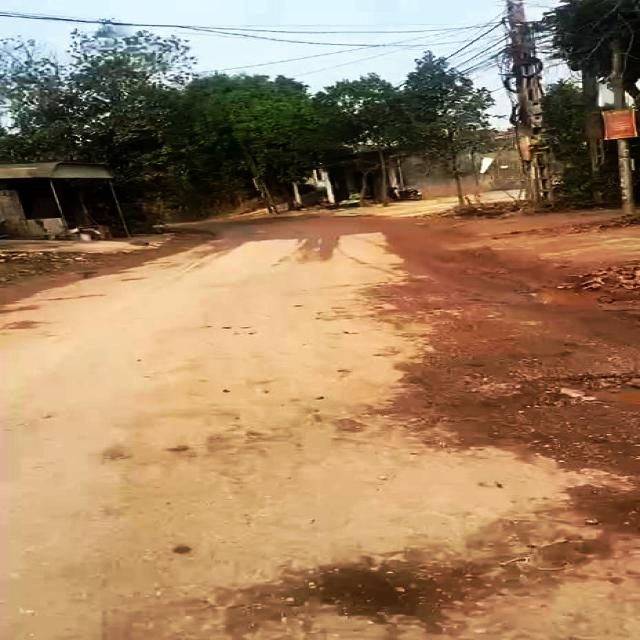pothole: (203, 554, 469, 640), (505, 361, 640, 416)
